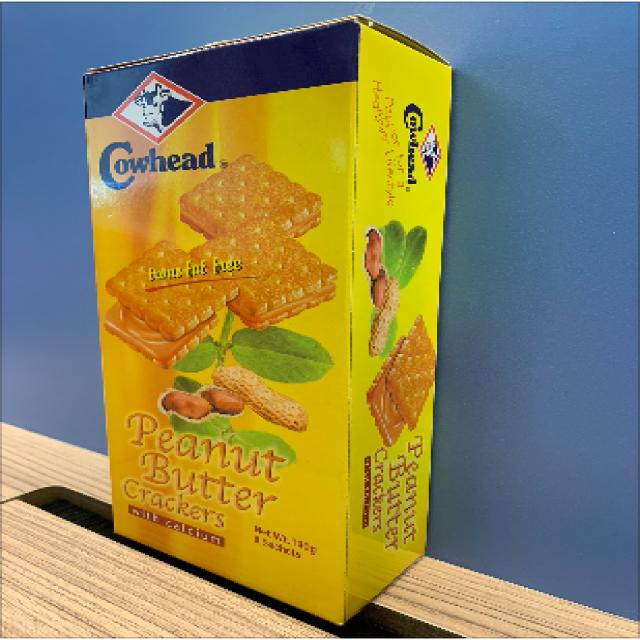object_name: (76, 43, 430, 567)
